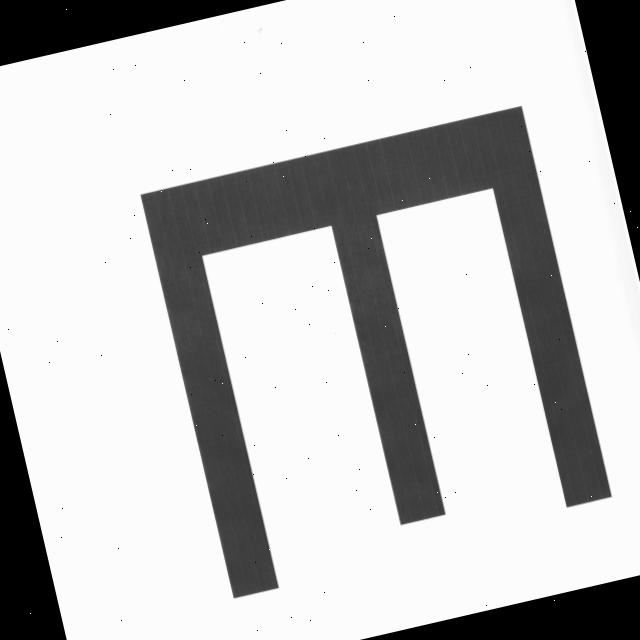e: (112, 58, 640, 638)
